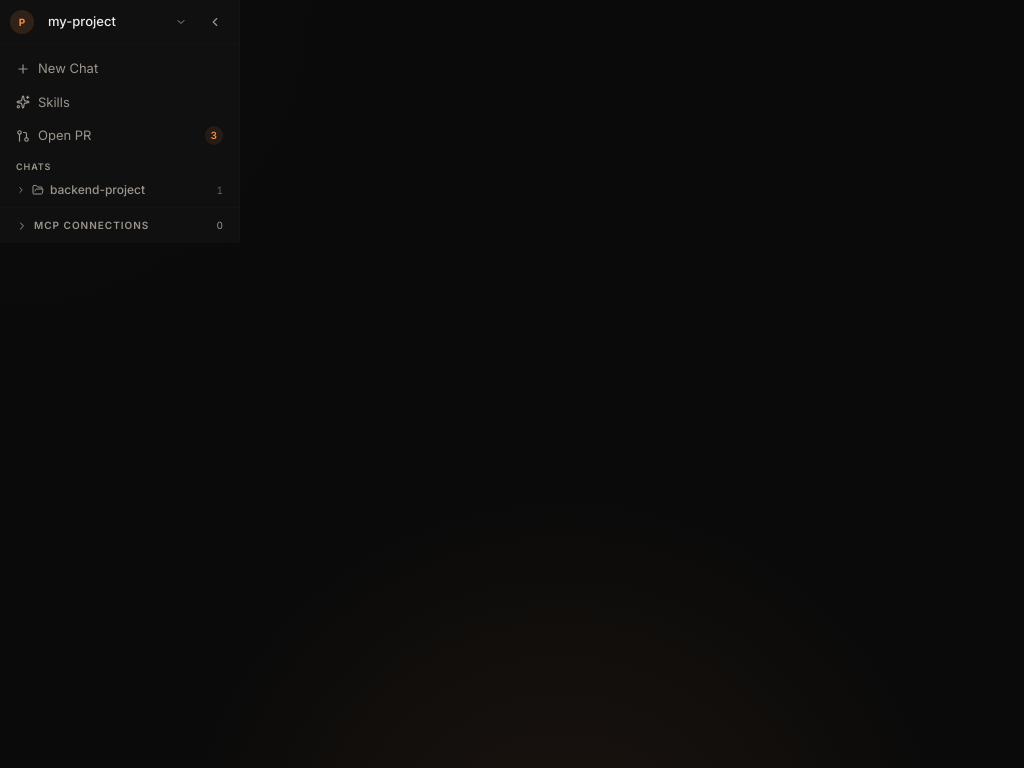
Test: Sidebar › uses workspace roots returned by the backend before the selected fallback
Check: the text "backend-project" is shown, box [50,182,145,197]
Click the button "backend-project 1" at (120, 190), box [8,177,231,203]
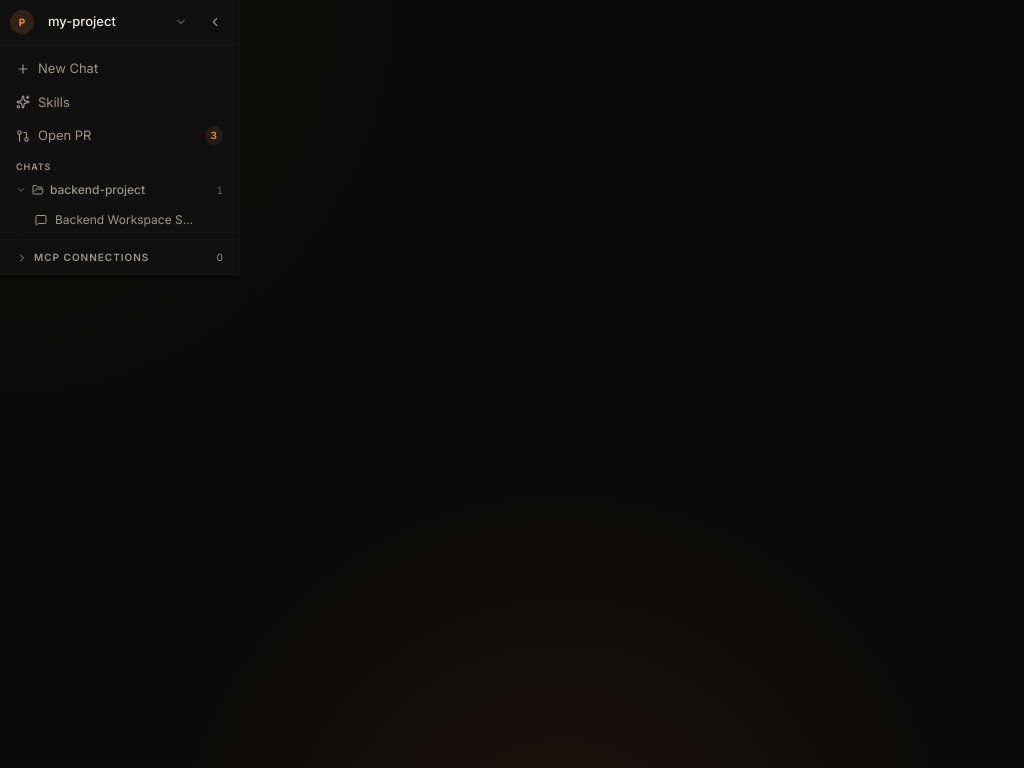
Check: the text "Backend Workspace Session" is shown, box [55,211,199,229]
